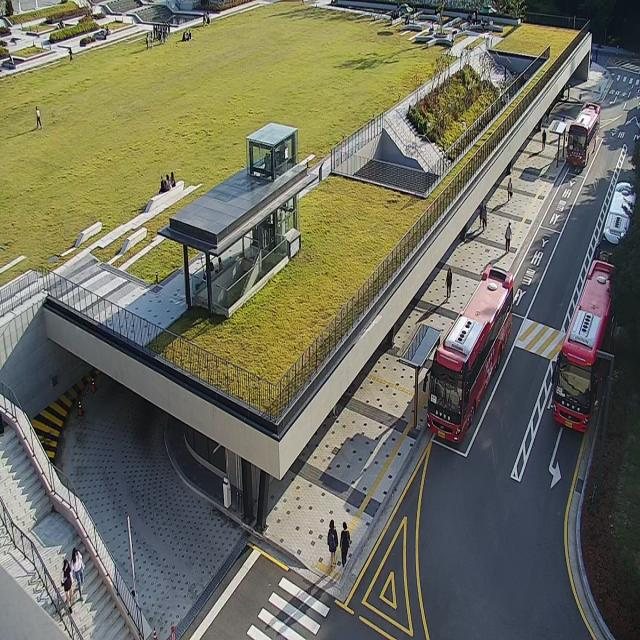queue: (416, 331, 440, 431)
